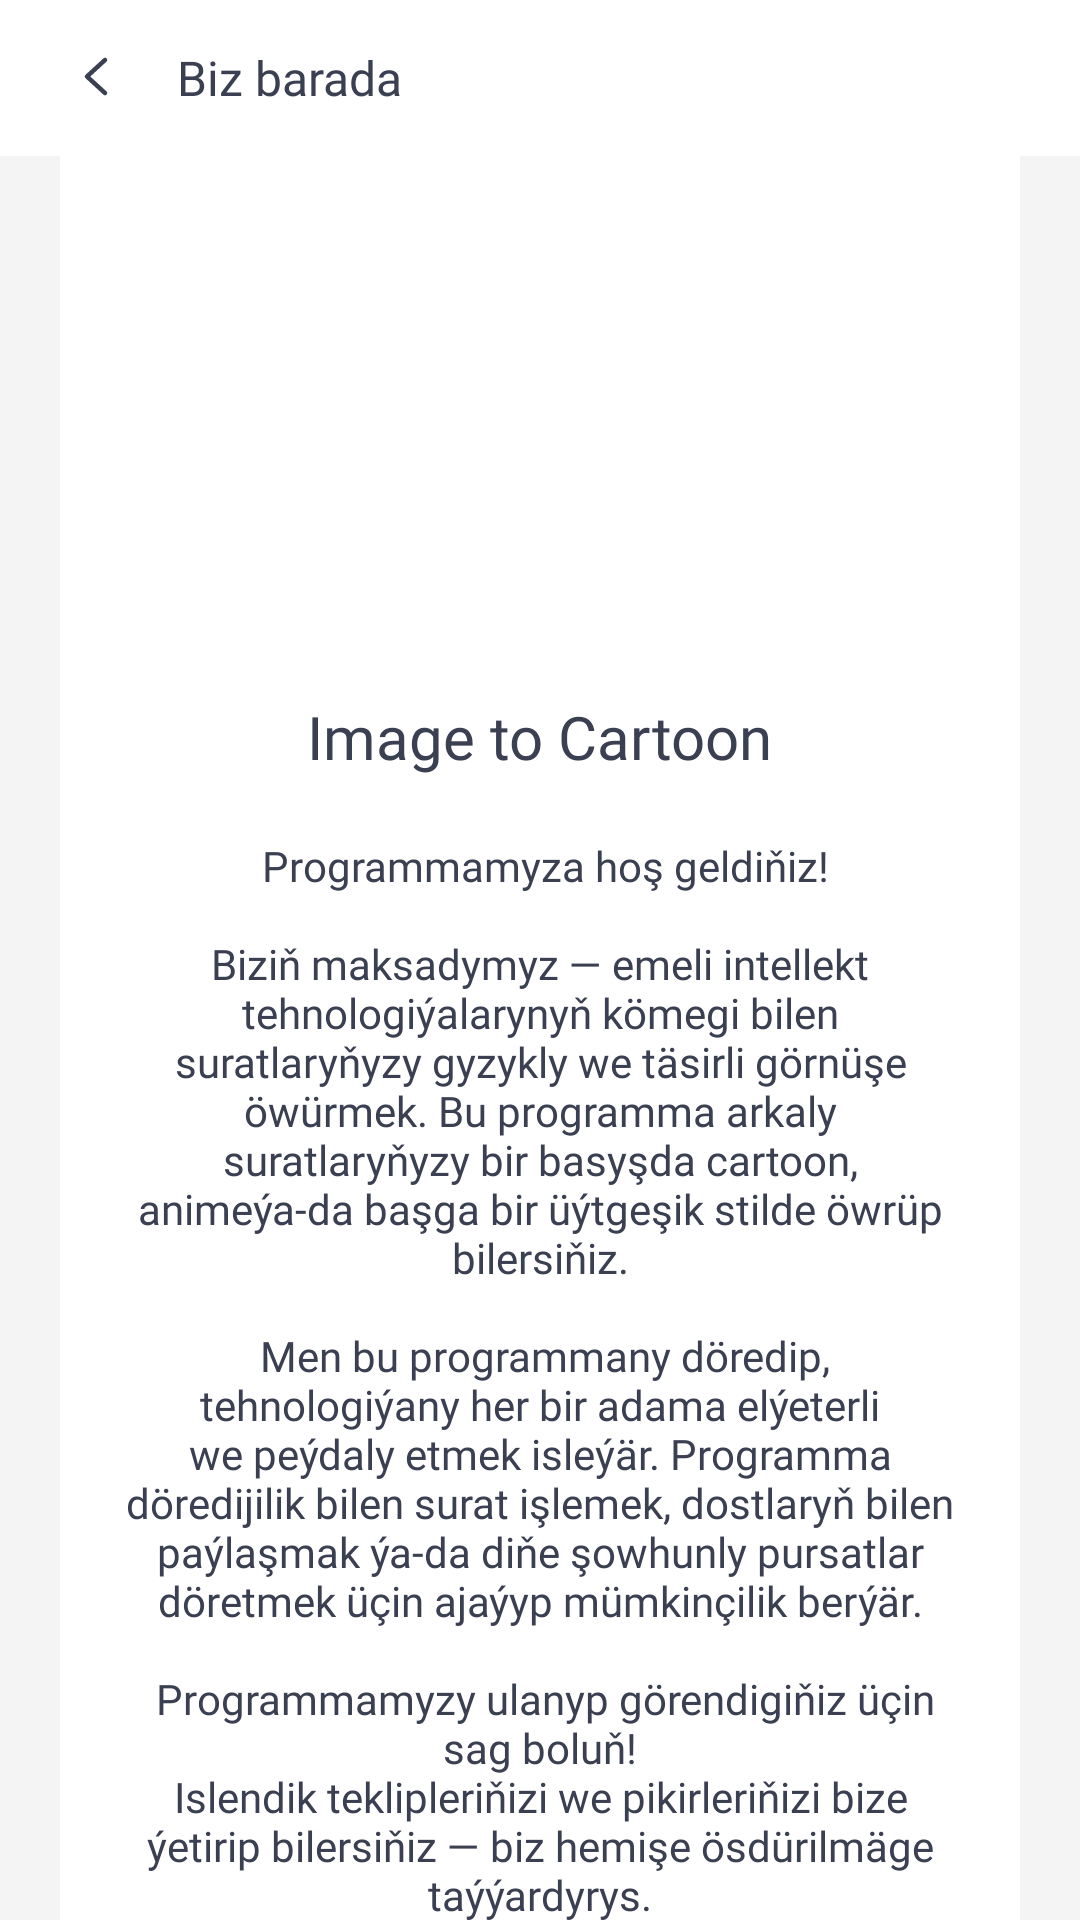

Screen size 1080px×1920px. Icon name, then its center in pixels as [x,y]:
back: [96,76]
